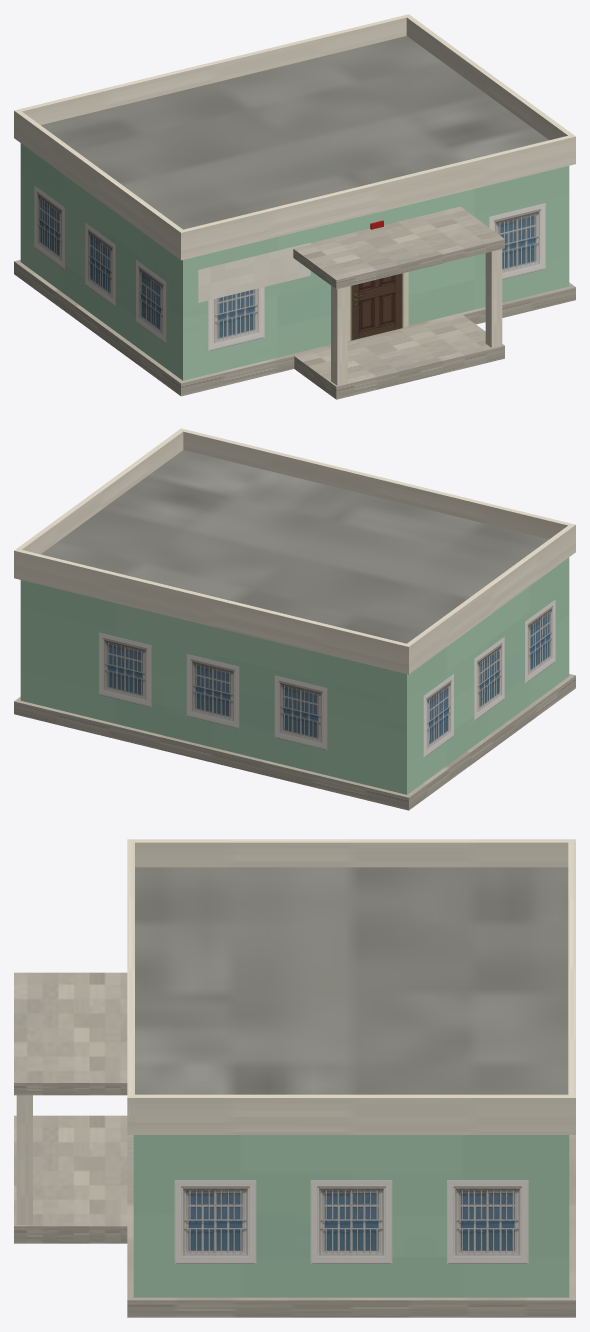
The model's file is clinic-mint-far.glb.
3 renders of one model, top to bottom at view 1: azimuth 30°, elevation 25°; view 2: azimuth 150°, elevation 25°; view 3: azimuth 270°, elevation 25°, orthographic. The views are drawn at different scales.
Parts seen in each view (by area): view 1: clinic-mint-far, sign_1; view 2: clinic-mint-far; view 3: clinic-mint-far.
Boxes of the visible parts, x1,y1,x2,y2 form: clinic-mint-far: (14,14,575,399); sign_1: (198,242,310,302); clinic-mint-far: (14,428,575,810); clinic-mint-far: (14,839,575,1317).
Size of the model in its own units: 11.24 by 4.45 by 10.32.
1 material, 1 textured.
